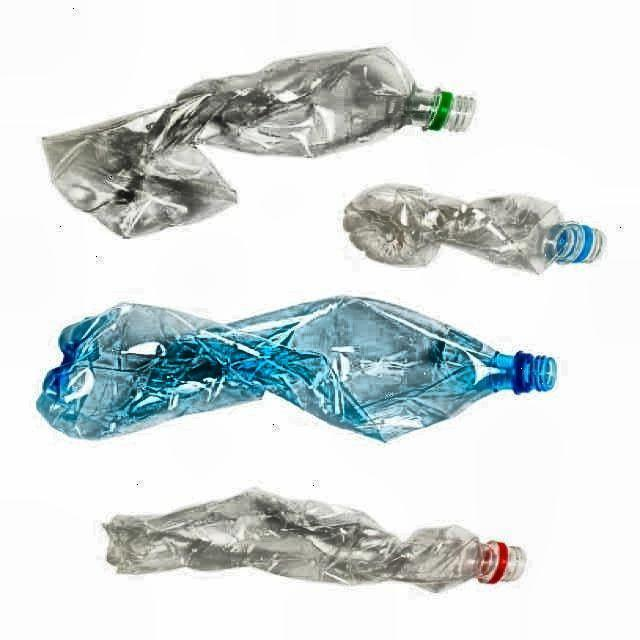plastic: (42, 48, 475, 237), (38, 296, 555, 441), (105, 490, 525, 591), (344, 185, 604, 272)
